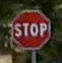stop: (9, 9, 51, 50)
